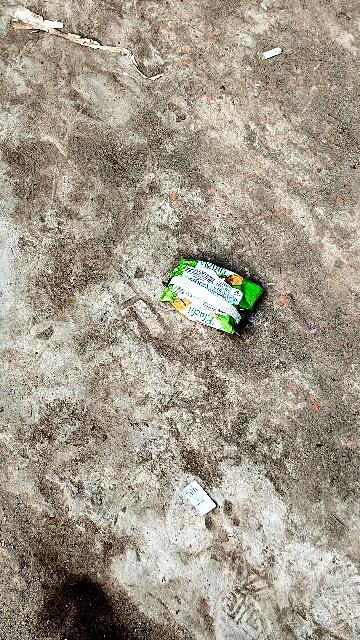packet: (156, 230, 274, 345)
